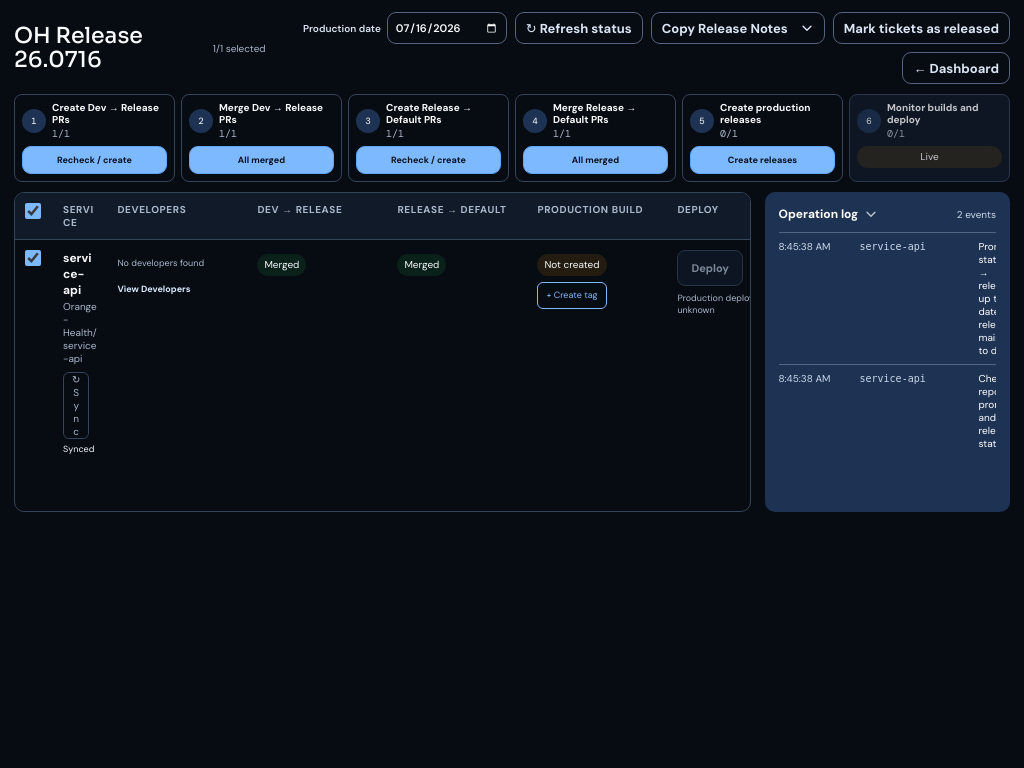
Test: ReleaseDayOperations › lets the RM stop waiting if marking Jira tickets hangs
Step 1. Click the button "Mark tickets as released" → (921, 28), box [833,12,1010,44]
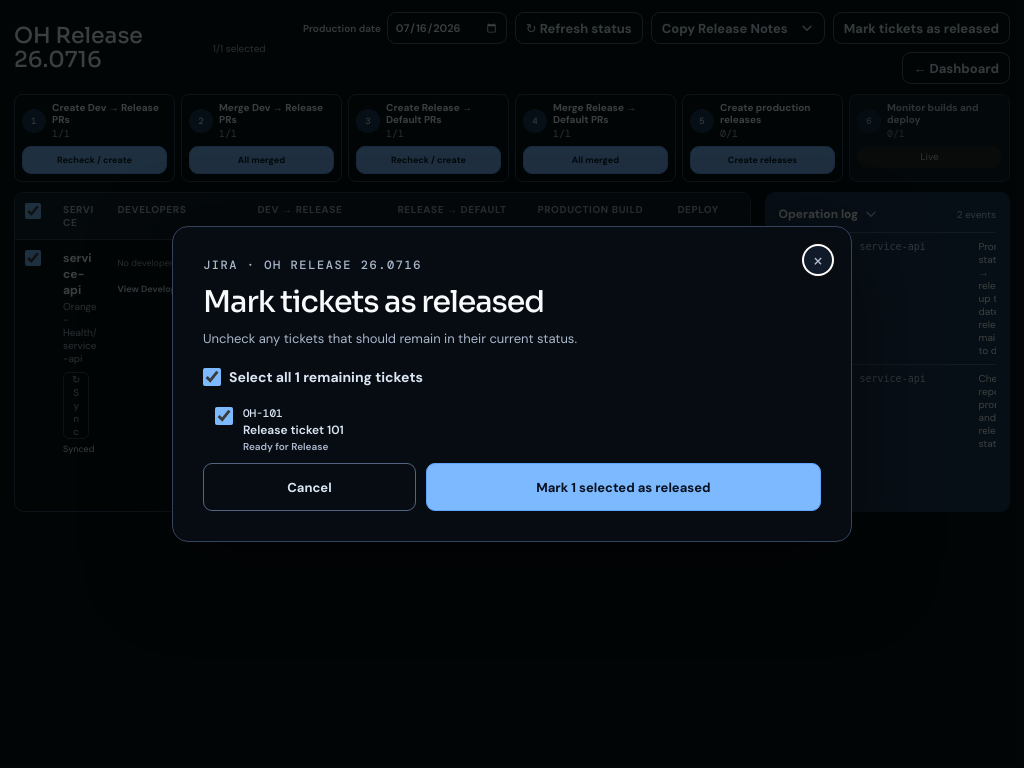
Step 2. Click the button "Mark 1 selected as released" → (623, 487), box [426,463,821,511]
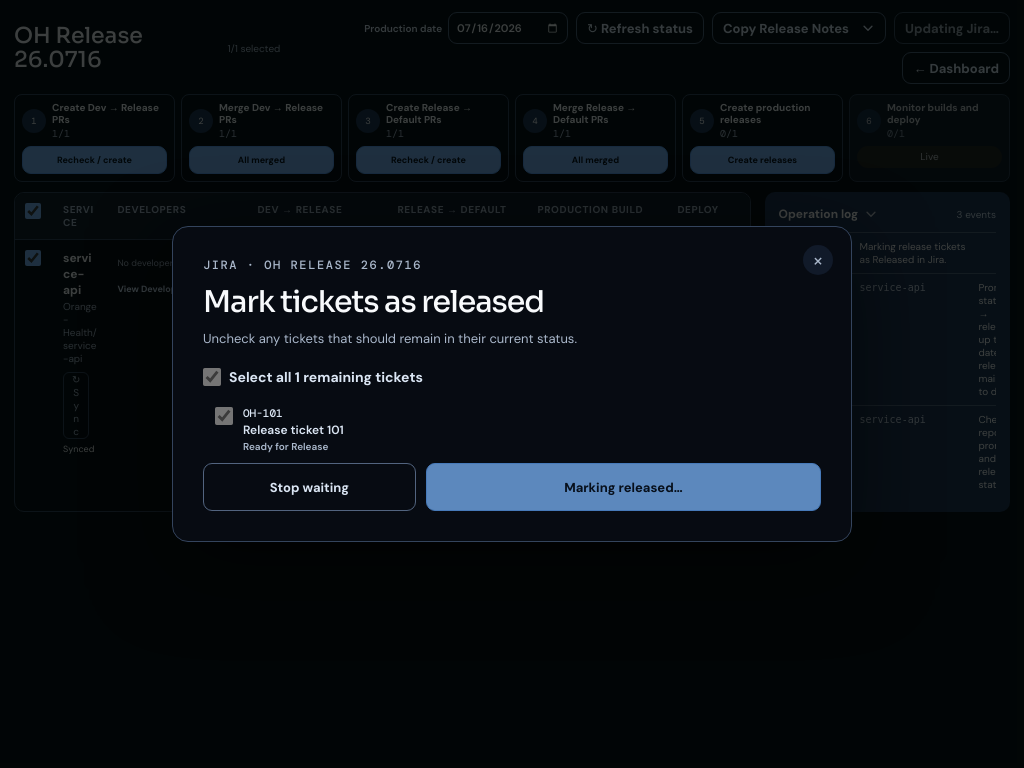
expect the button "Marking released…" is disabled: met, box [426,463,821,511]
Step 3. Click the button "Stop waiting" → (309, 487), box [203,463,416,511]
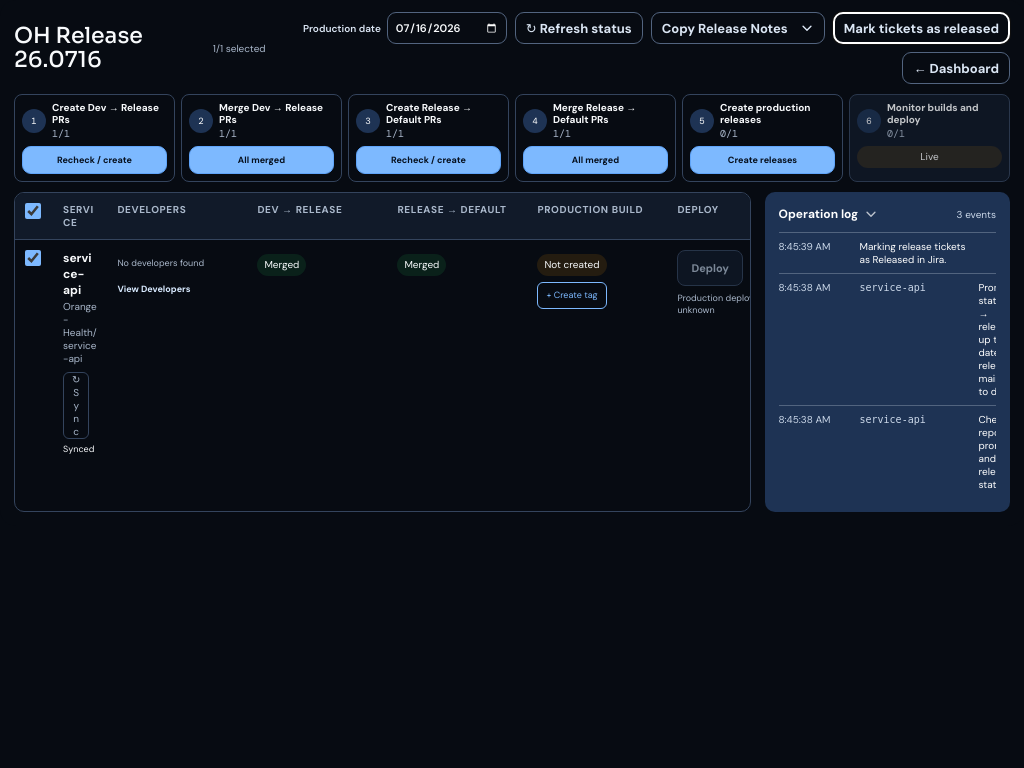
expect the button "Mark tickets as released" is enabled: met, box [833,12,1010,44]
